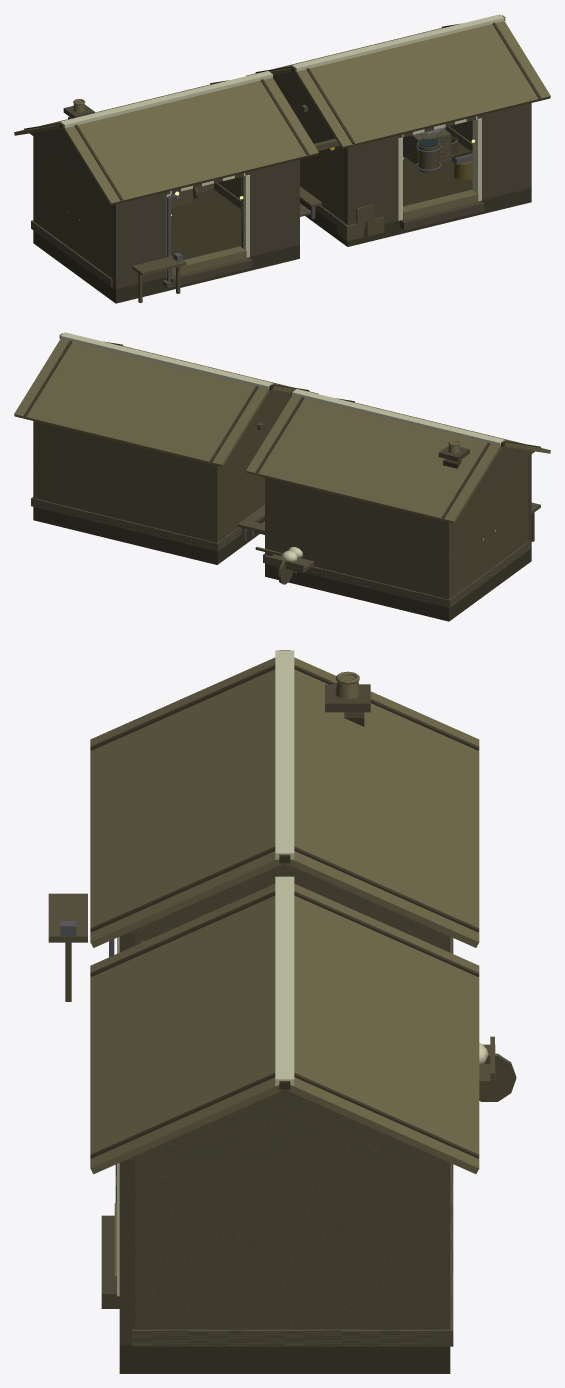
The model's file is village_court3.glb.
3 renders of one model, top to bottom at view 1: azimuth 30°, elevation 25°; view 2: azimuth 150°, elevation 25°; view 3: azimuth 270°, elevation 25°, orthographic. The views are drawn at different scales.
Visible parts, largest first — view 1: ct3_6, ct3_3, ct3_1, ct3_0, ct3_7, ct3_2, ct3_4, ct3_5, ct3_8, ct3_9, ct3_14; view 2: ct3_1, ct3_6, ct3_0, ct3_2, ct3_7, ct3_8, ct3_9, ct3_3; view 3: ct3_6, ct3_1, ct3_8, ct3_0, ct3_7, ct3_9, ct3_2, ct3_3.
Part boxes in pixels (box(x1,y1,x2,y2)): ct3_6: box(14, 21, 550, 205); ct3_3: box(63, 103, 531, 289); ct3_1: box(33, 92, 472, 302); ct3_0: box(33, 15, 531, 303); ct3_7: box(60, 14, 504, 127); ct3_2: box(31, 126, 472, 287); ct3_4: box(166, 116, 481, 277); ct3_5: box(171, 189, 478, 276); ct3_8: box(30, 72, 326, 181); ct3_9: box(24, 22, 540, 200); ct3_14: box(173, 127, 472, 261); ct3_1: box(33, 410, 540, 599); ct3_6: box(14, 339, 550, 523); ct3_0: box(33, 333, 531, 621); ct3_2: box(31, 497, 529, 608); ct3_7: box(60, 332, 504, 445); ct3_8: box(238, 390, 534, 499); ct3_9: box(24, 340, 540, 518); ct3_3: box(438, 445, 531, 547); ct3_6: box(90, 657, 479, 1174); ct3_1: box(48, 893, 516, 1329); ct3_8: box(126, 863, 442, 1159); ct3_0: box(119, 650, 450, 1373); ct3_7: box(275, 650, 294, 1085); ct3_9: box(90, 665, 479, 1158); ct3_2: box(132, 937, 453, 1346); ct3_3: box(101, 684, 370, 1345).
Size of the model in its own units: 13 by 4.37 by 5.94.
9 materials, 4 textured.
